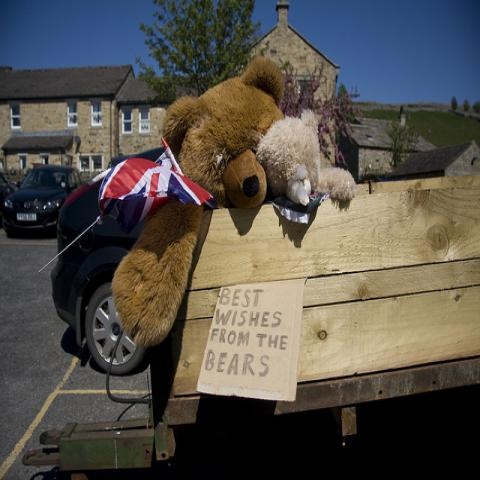car: (53, 176, 148, 371), (4, 168, 85, 238), (0, 176, 15, 228)
